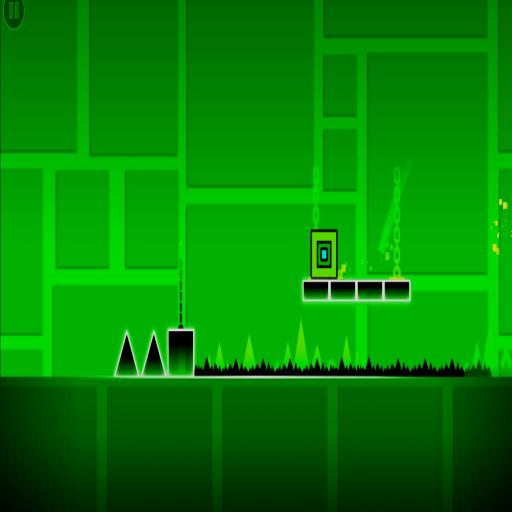block: (298, 275, 414, 311), (166, 326, 198, 375)
player: (311, 229, 338, 278)
spike: (115, 332, 138, 375), (143, 332, 165, 375), (295, 319, 309, 369), (484, 322, 497, 370), (243, 336, 257, 369), (499, 346, 512, 376), (342, 337, 351, 368), (215, 343, 225, 370), (312, 344, 322, 367), (283, 343, 291, 367), (473, 343, 481, 366), (329, 359, 337, 369), (206, 354, 211, 369), (274, 361, 281, 370)
